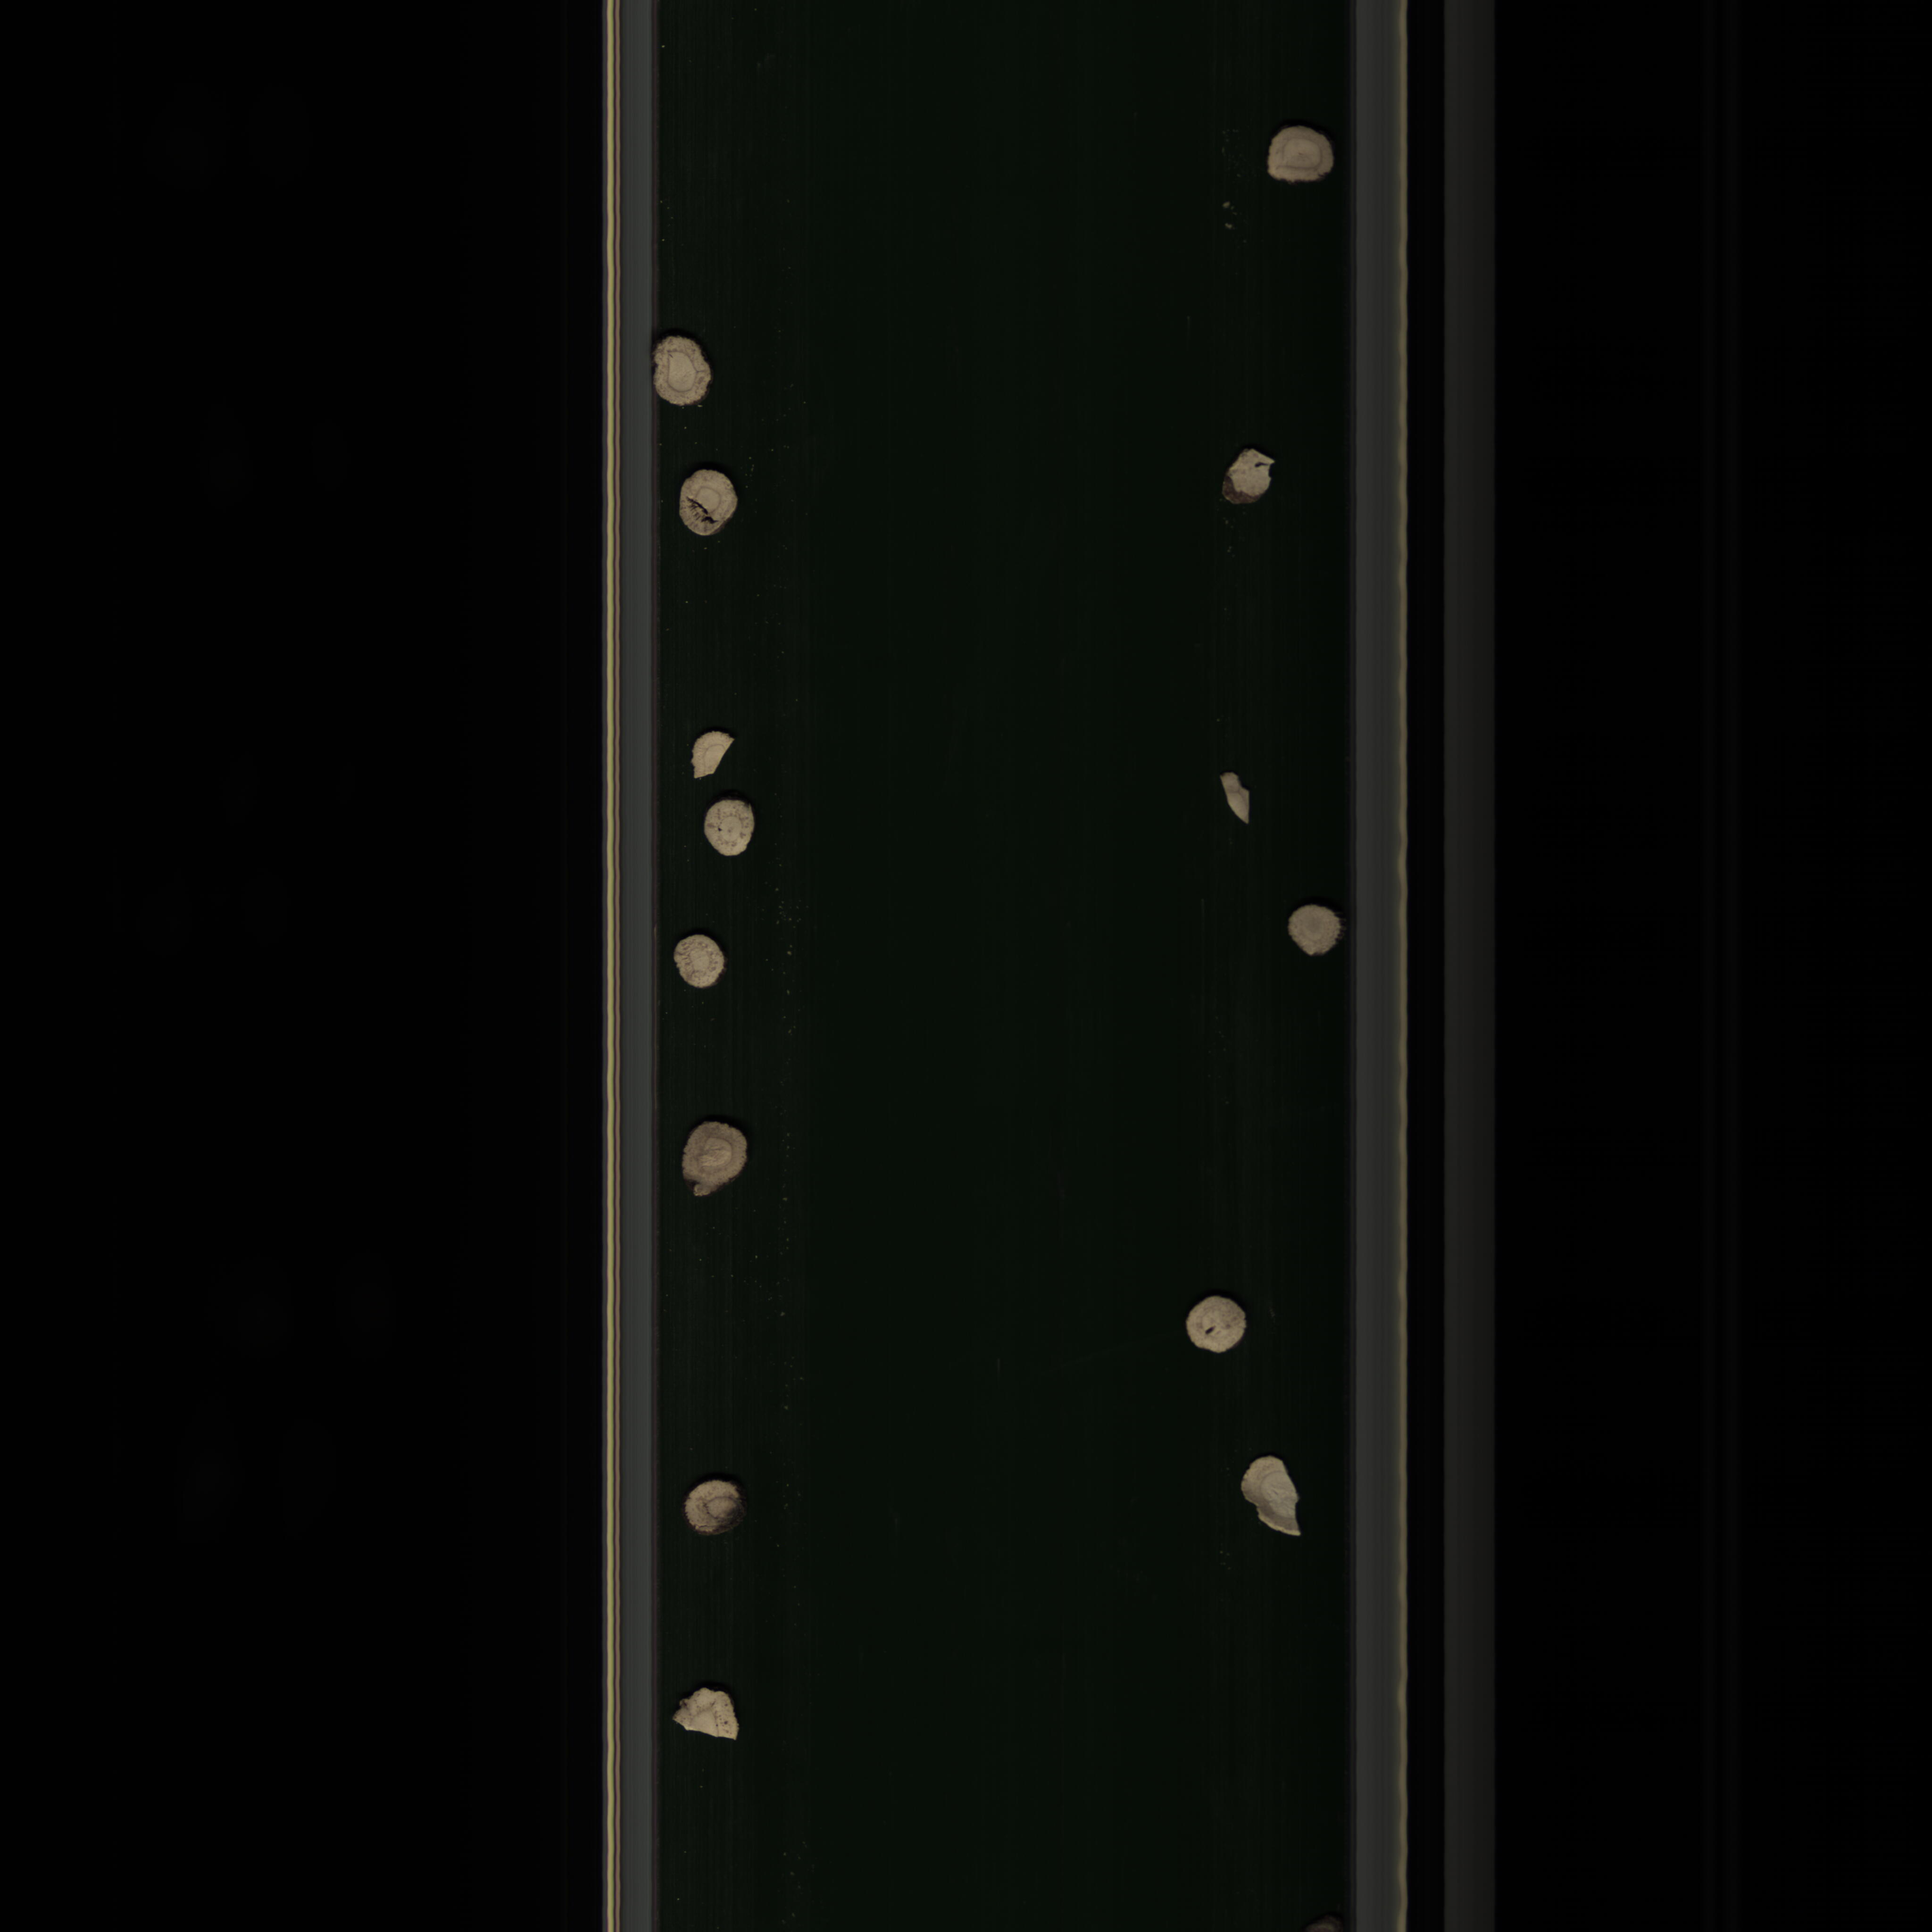debris: (1231, 1449, 1318, 1546), (671, 1681, 752, 1748), (1219, 446, 1284, 510), (686, 718, 741, 784), (1212, 768, 1260, 832)
hole: (679, 456, 743, 552), (1184, 1284, 1256, 1362)
